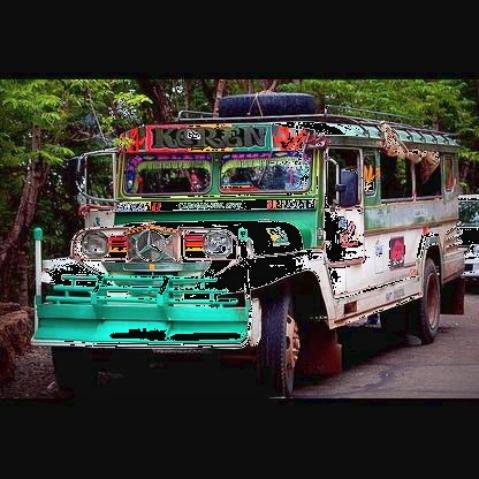jeepney: (19, 101, 472, 397)
